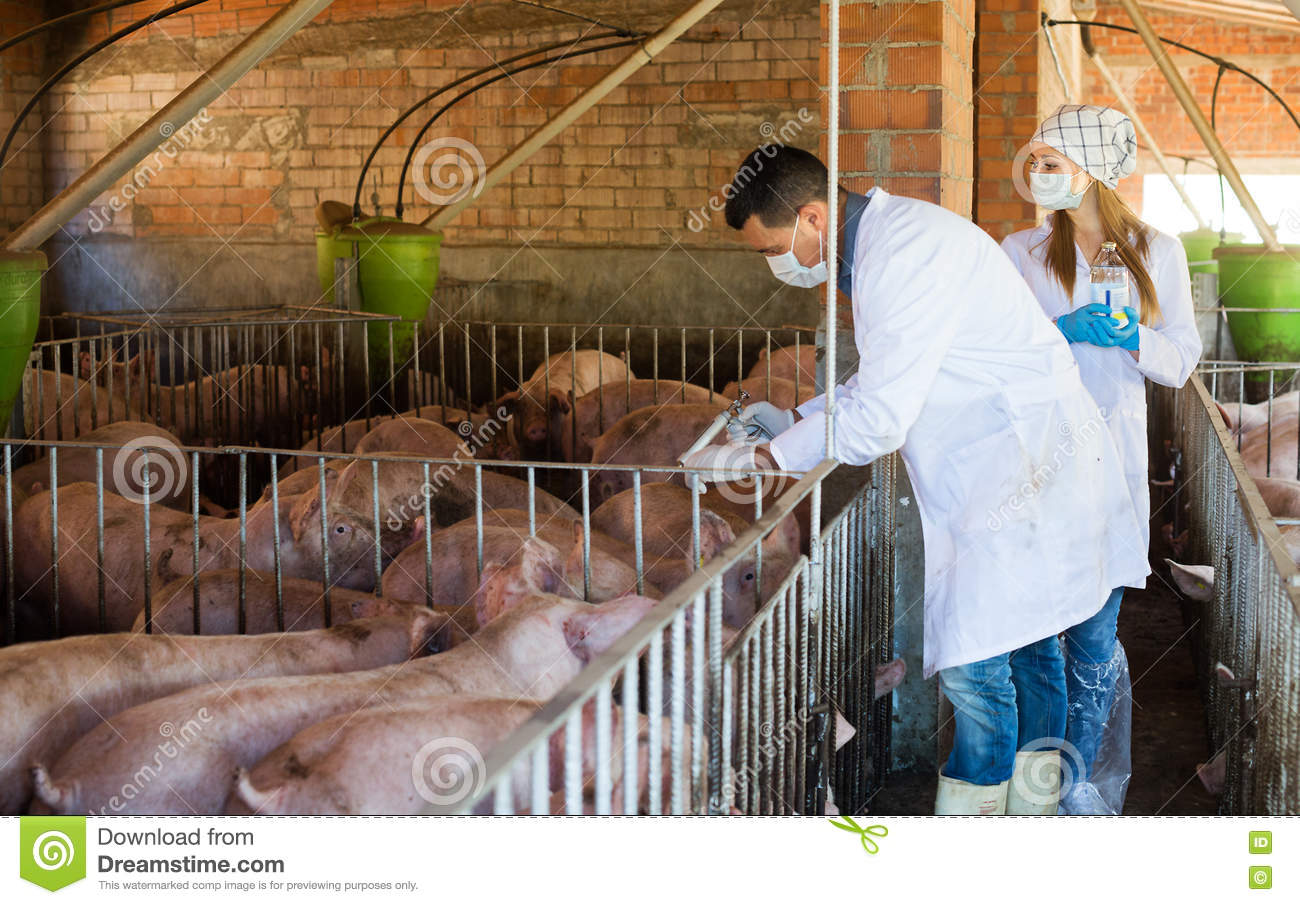mask: (762, 246, 824, 284), (1029, 175, 1080, 206)
